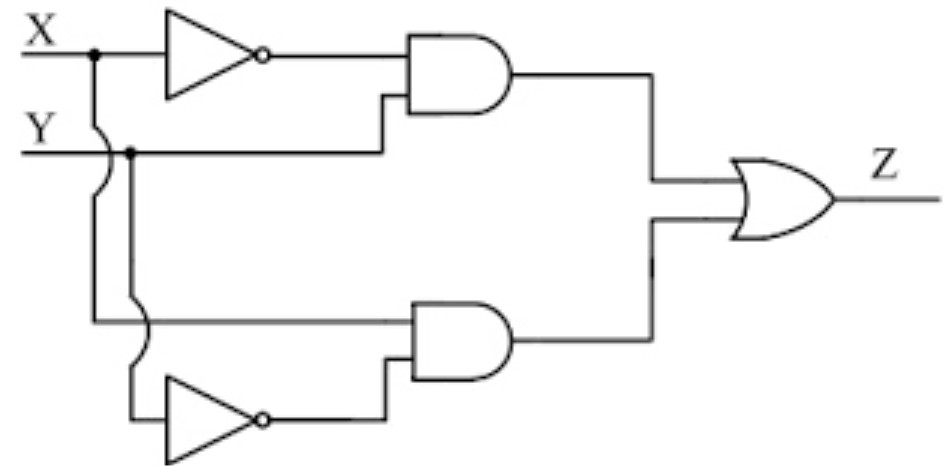and gate: (402, 29, 529, 129), (408, 296, 525, 387)
not gate: (161, 5, 281, 111), (160, 369, 275, 465)
or gate: (724, 155, 846, 246)
